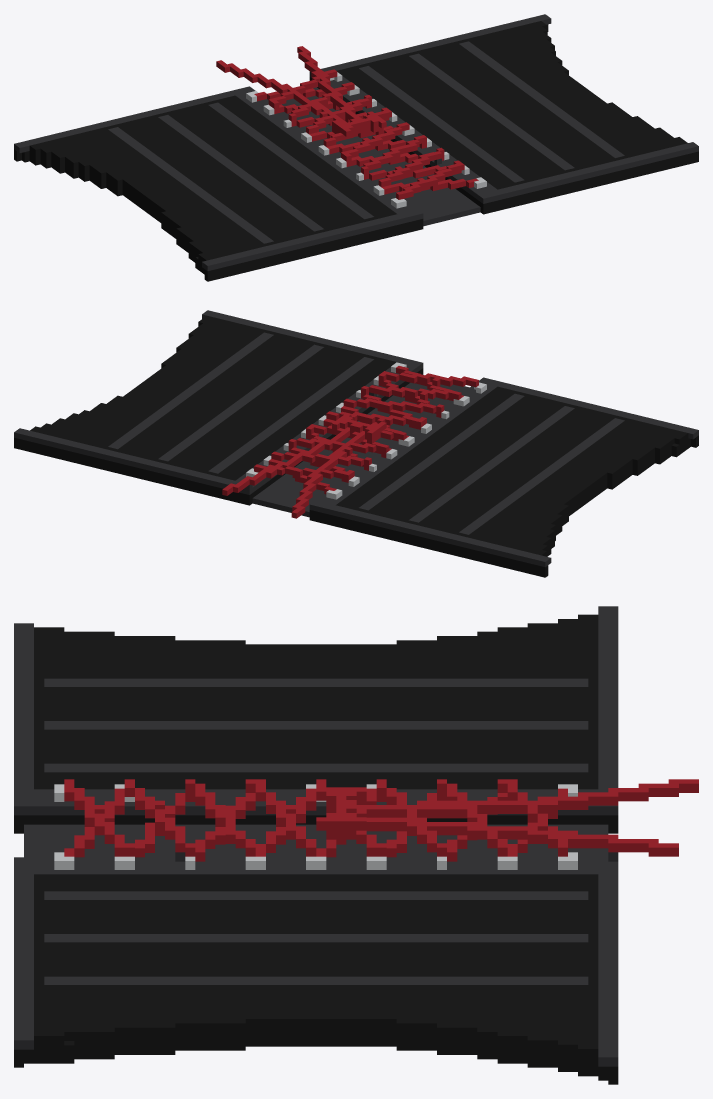
The model's file is corset_waist_loose.glb.
3 renders of one model, top to bottom at view 1: azimuth 30°, elevation 25°; view 2: azimuth 150°, elevation 25°; view 3: azimuth 270°, elevation 25°, orthographic. The views are drawn at different scales.
Parts seen in each view (by area): view 1: corset_waist_loose:compound; view 2: corset_waist_loose:compound; view 3: corset_waist_loose:compound.
Part boxes in pixels (x1,y1,x2,y2): corset_waist_loose:compound: (14, 14, 698, 281); corset_waist_loose:compound: (14, 310, 698, 577); corset_waist_loose:compound: (14, 606, 698, 1084).
Bounding box in the file's own units: 0.424 × 0.024 × 0.272.
